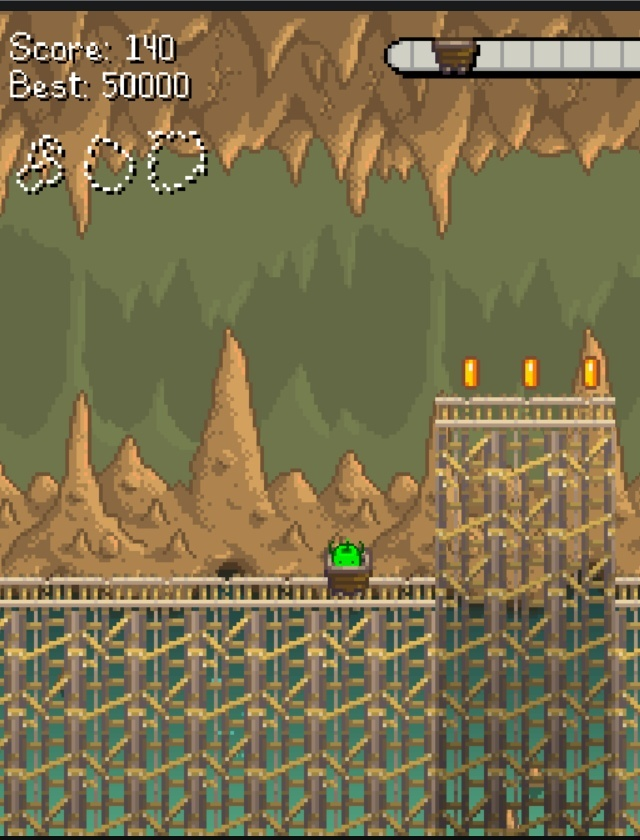coins: (522, 358, 539, 388), (583, 356, 598, 387), (464, 359, 477, 387)
minecart: (324, 538, 371, 595)
tracks: (0, 565, 316, 612), (426, 393, 621, 434), (609, 559, 640, 613)
